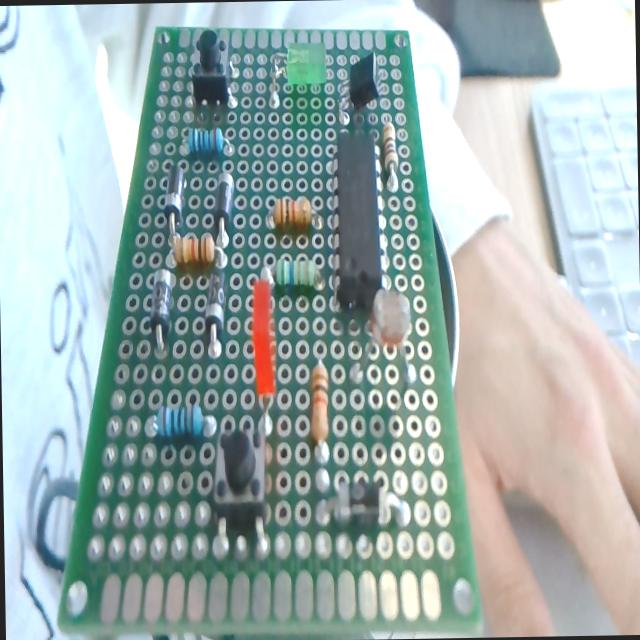IC: (332, 130, 383, 316)
cds: (354, 289, 416, 376)
diode: (319, 476, 405, 531), (148, 268, 174, 344), (203, 267, 226, 350), (162, 162, 185, 230), (212, 172, 234, 230)
led: (260, 38, 328, 108), (250, 282, 278, 442)
resistor: (308, 361, 330, 460), (153, 401, 205, 440), (272, 193, 313, 230), (274, 256, 316, 288), (382, 106, 397, 192), (174, 234, 214, 266), (188, 126, 224, 158)
switch: (213, 422, 267, 532), (192, 28, 231, 104)
transistor: (336, 46, 384, 126)
